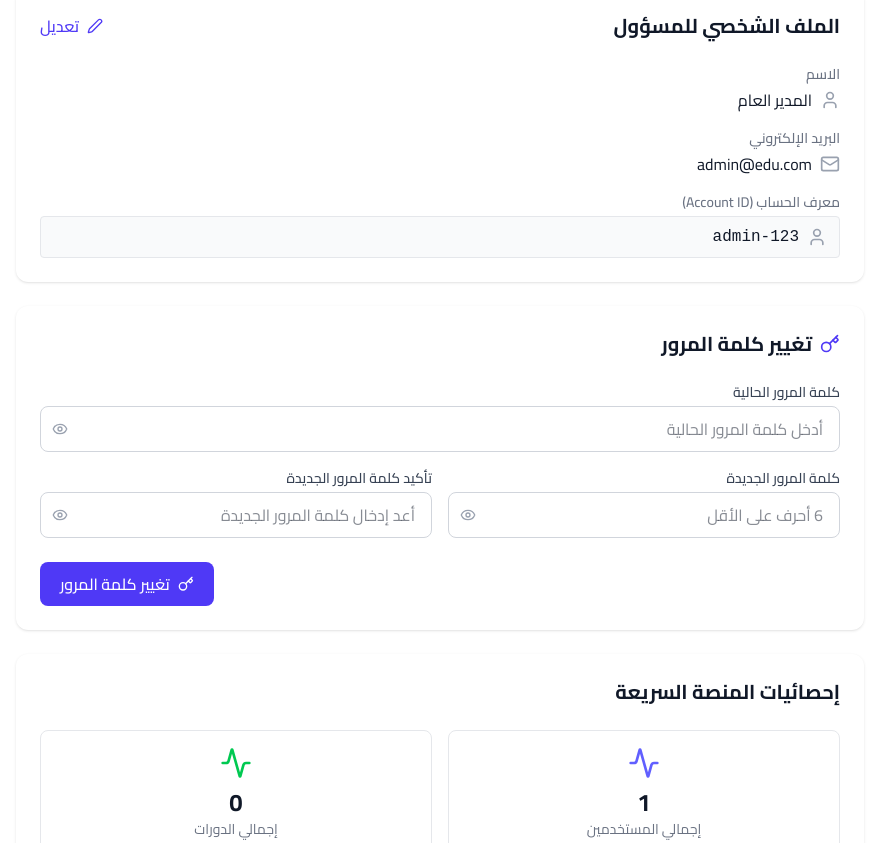
Test: AdminProfilePage - Password Change Component › shows error when confirmation password does not match
This screenshot has width=881, height=843.
Type "CurrentPass123" into the password field with placeholder "أدخل كلمة المرور الحالية" at (440, 429), box [40,406,840,452]
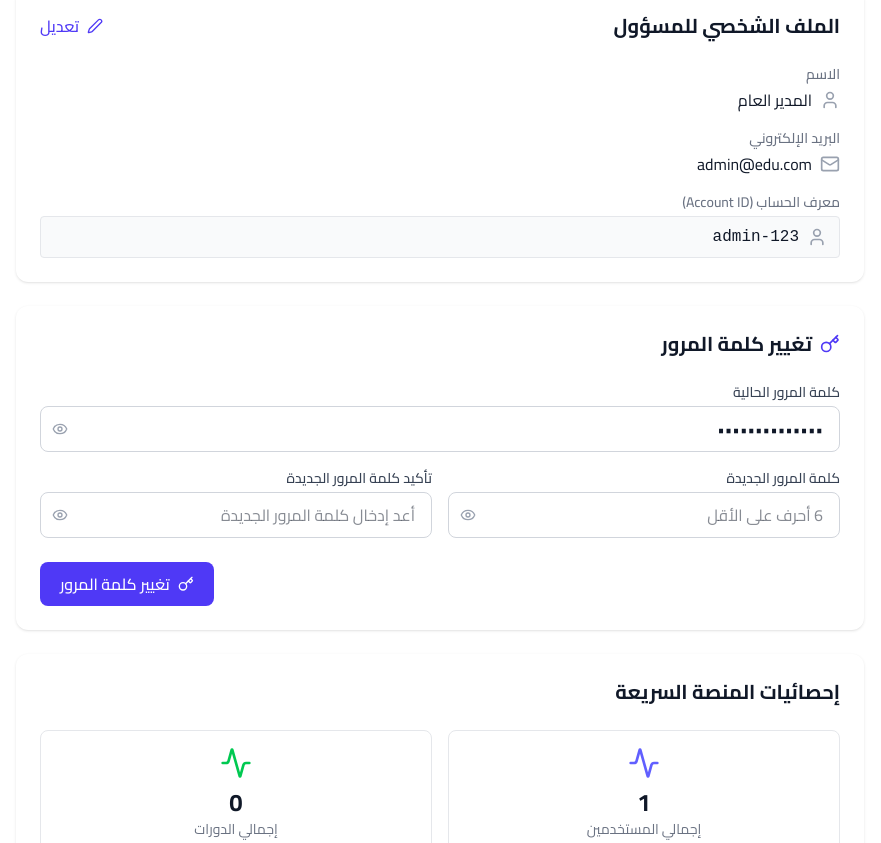
Type "NewPass123456" into the password field with placeholder "6 أحرف على الأقل" at (644, 515), box [448,492,840,538]
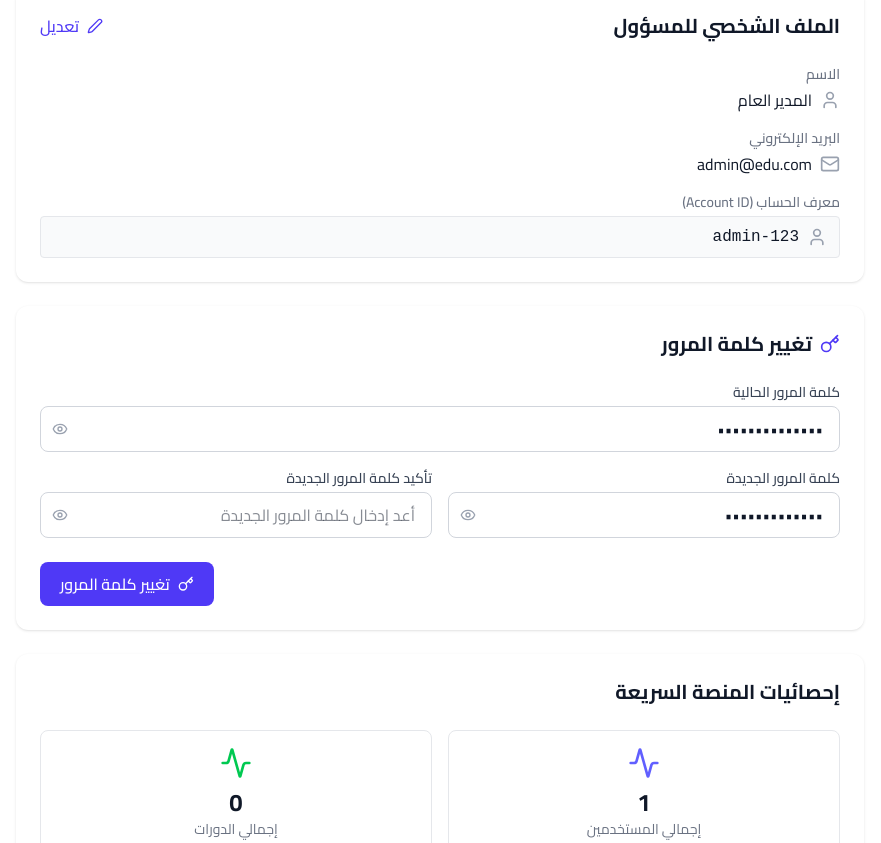
Type "DifferentPass123456" into the password field with placeholder "أعد إدخال كلمة المرور الجديدة" at (236, 515), box [40,492,432,538]
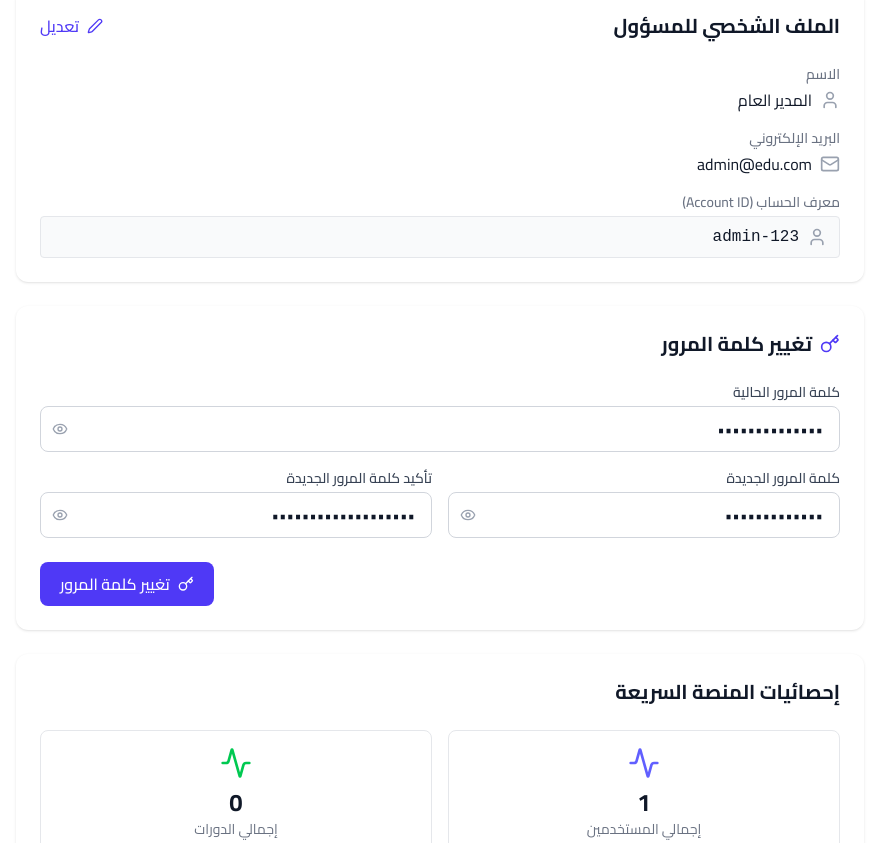
Click the button "تغيير كلمة المرور" at (127, 584), box [40,562,214,606]
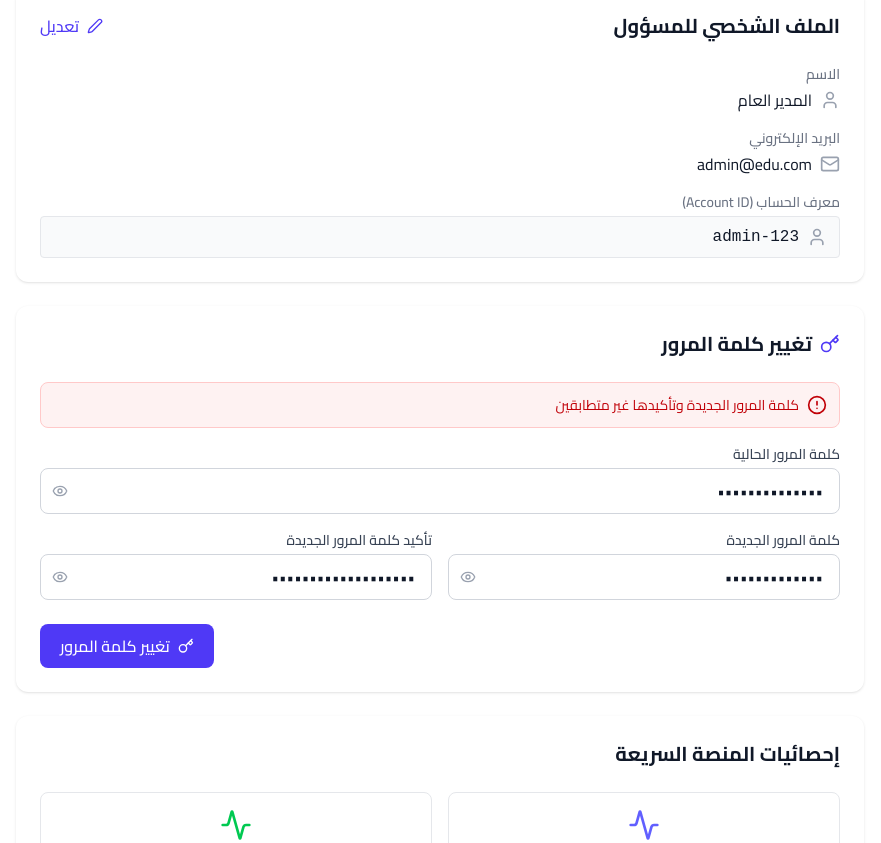
Check: the text "كلمة المرور الجديدة وتأكيدها غير متطابقين" is shown, box [555,395,799,415]
